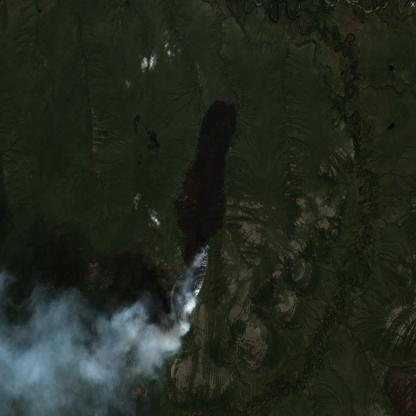fire: (164, 242, 214, 326)
